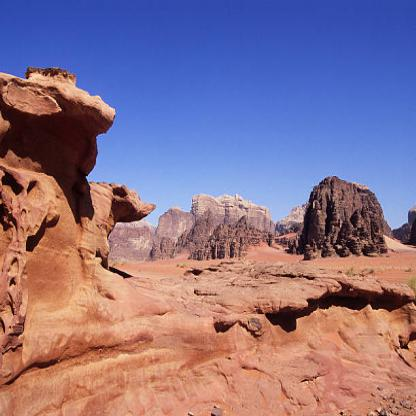Sedimentary_Sandstone: (0, 152, 53, 361), (296, 166, 396, 269), (2, 58, 122, 122), (188, 182, 278, 250), (95, 176, 146, 231)
